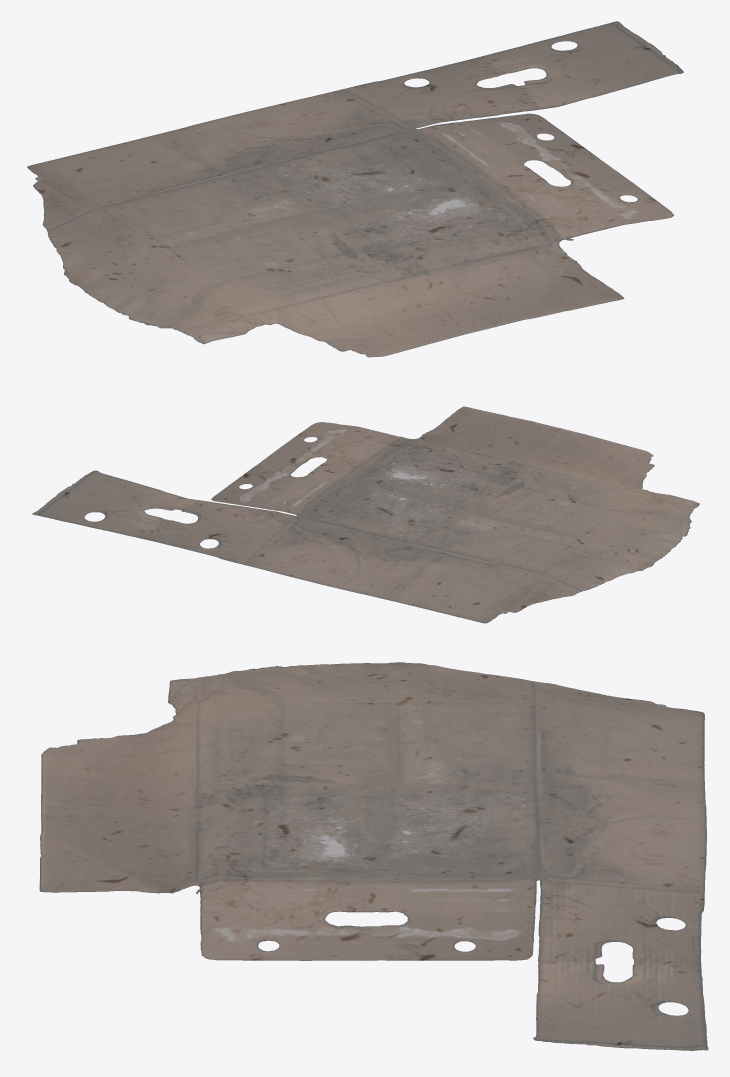
The model's file is SM_Cardboard_Flat01.glb.
3 renders of one model, top to bottom at view 1: azimuth 30°, elevation 25°; view 2: azimuth 150°, elevation 25°; view 3: azimuth 270°, elevation 25°, orthographic. The views are drawn at different scales.
Parts seen in each view (by area): view 1: SM_Cardboard_Flat01; view 2: SM_Cardboard_Flat01; view 3: SM_Cardboard_Flat01.
Boxes of the visible parts, bbox=[...] form: SM_Cardboard_Flat01: bbox=[27, 21, 683, 357]; SM_Cardboard_Flat01: bbox=[32, 406, 699, 623]; SM_Cardboard_Flat01: bbox=[39, 662, 708, 1050].
Bounding box in the file's own units: 0.5308 × 0.00943 × 0.3888.
1 material, 1 textured.
